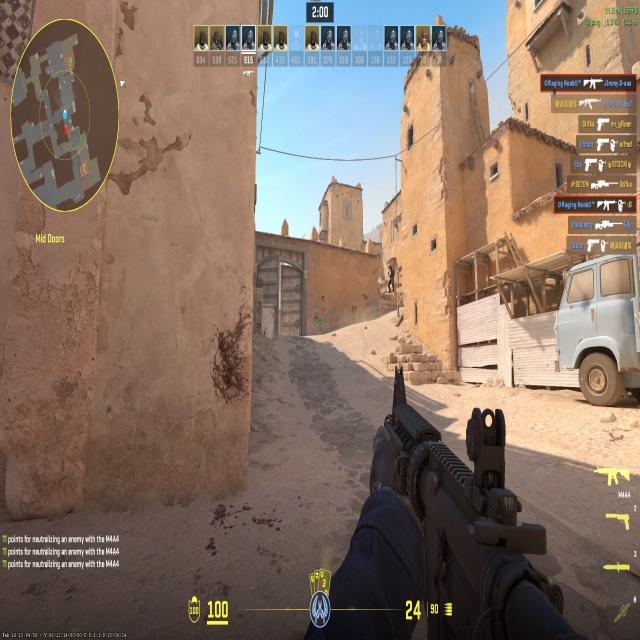player: (385, 263, 397, 297)
